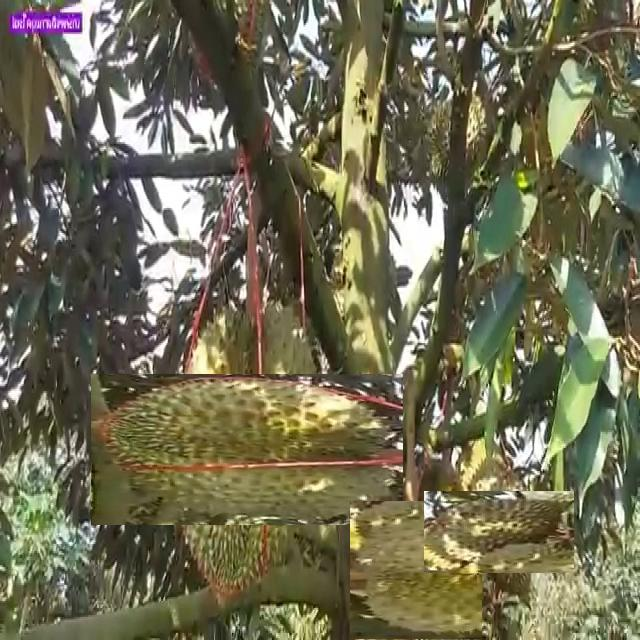durian: (131, 333, 363, 565), (348, 503, 484, 640), (441, 474, 557, 591)
